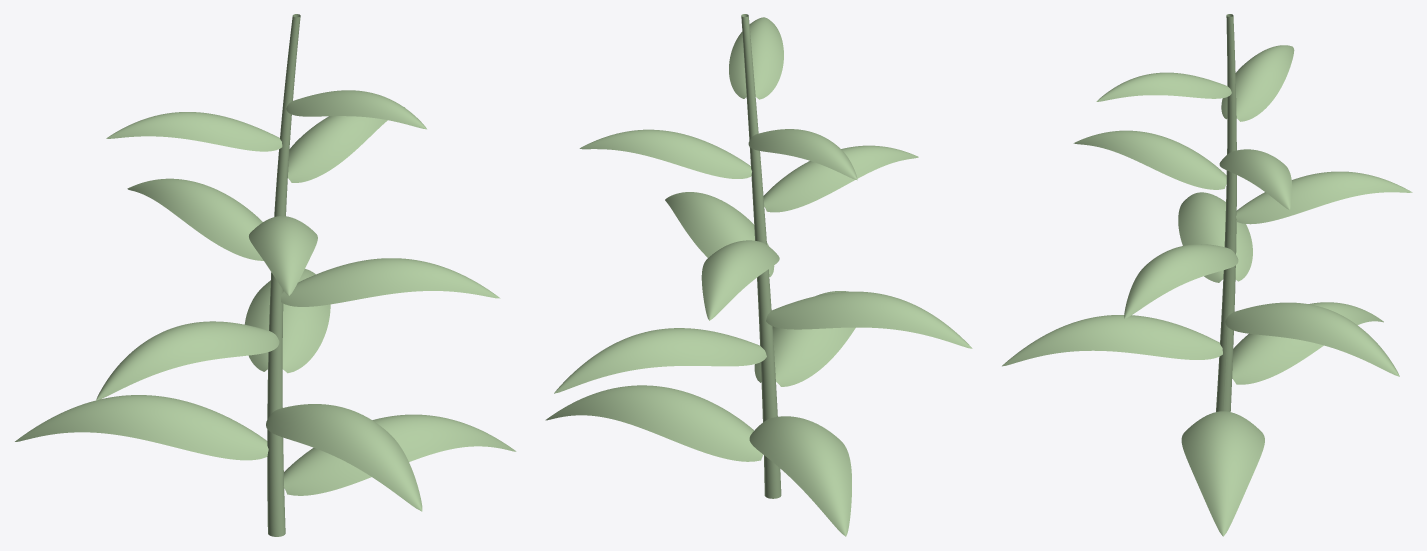
The model's file is fixture-reconstruction.glb.
3 views of the same model, side by side, from view 1: azimuth 30°, elevation 25°; view 2: azimuth 150°, elevation 25°; view 3: azimuth 270°, elevation 25° (orthographic). The views are drawn at different scales.
Size of the model in its own units: 740 by 820 by 683.
